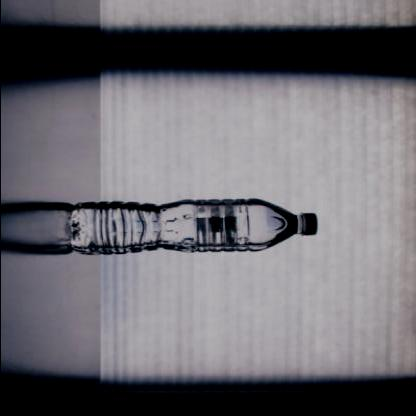bottle: (67, 198, 324, 260)
